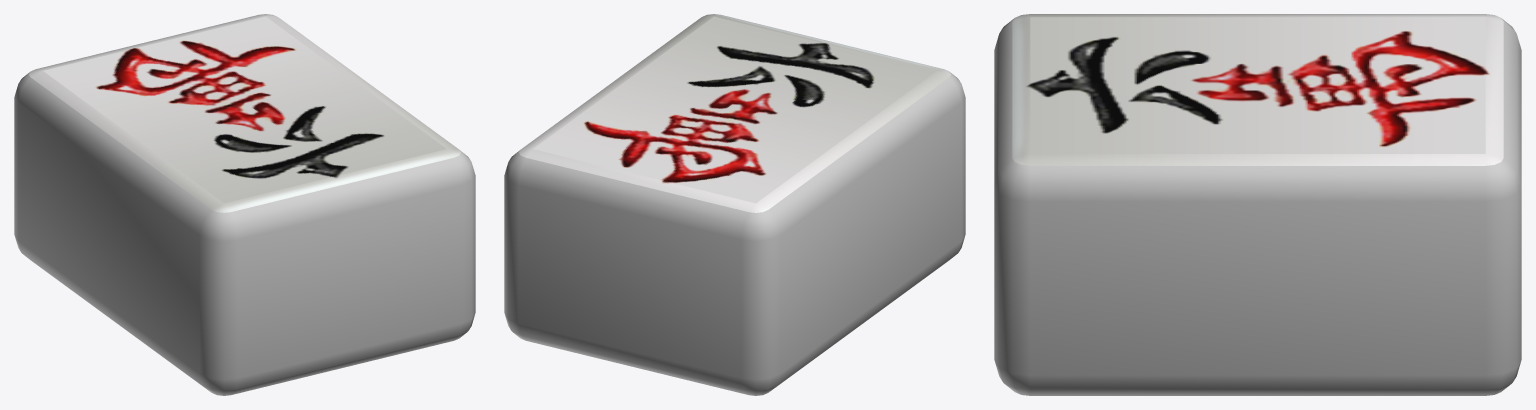
Rendered from card.FBX.
The picture shows the model from 3 angles, left to right: view 1: azimuth 30°, elevation 25°; view 2: azimuth 150°, elevation 25°; view 3: azimuth 270°, elevation 25°; orthographic projection. The views are drawn at different scales.
Parts seen in each view (by area): view 1: ChamferBox001; view 2: ChamferBox001; view 3: ChamferBox001.
Part boxes in pixels (left/top/right/bottom): ChamferBox001: left=14, top=14, right=475, bottom=395; ChamferBox001: left=504, top=14, right=965, bottom=395; ChamferBox001: left=994, top=14, right=1521, bottom=395.
Bounding box in the file's own units: 1.3 × 0.8661 × 1.73.
